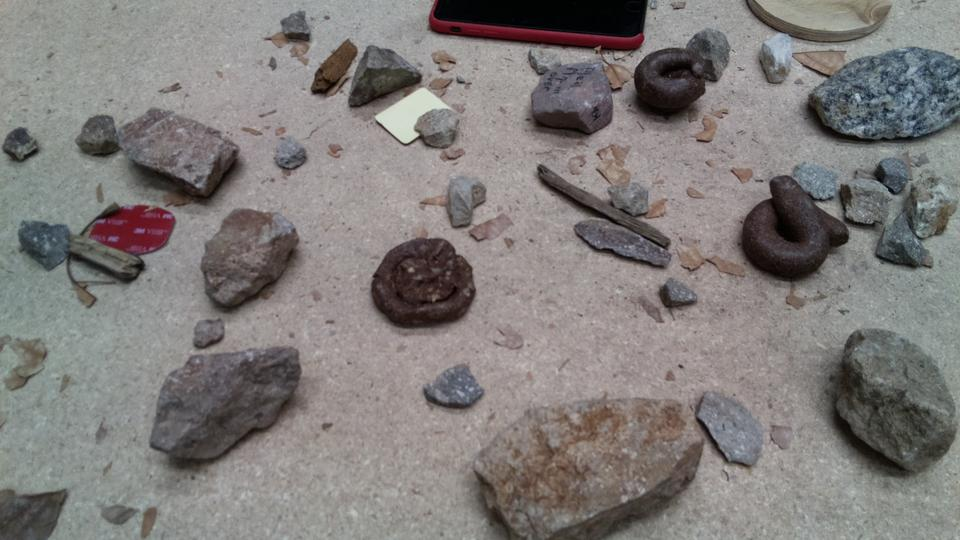poop: (738, 174, 854, 282), (367, 235, 479, 331), (632, 45, 709, 117)
